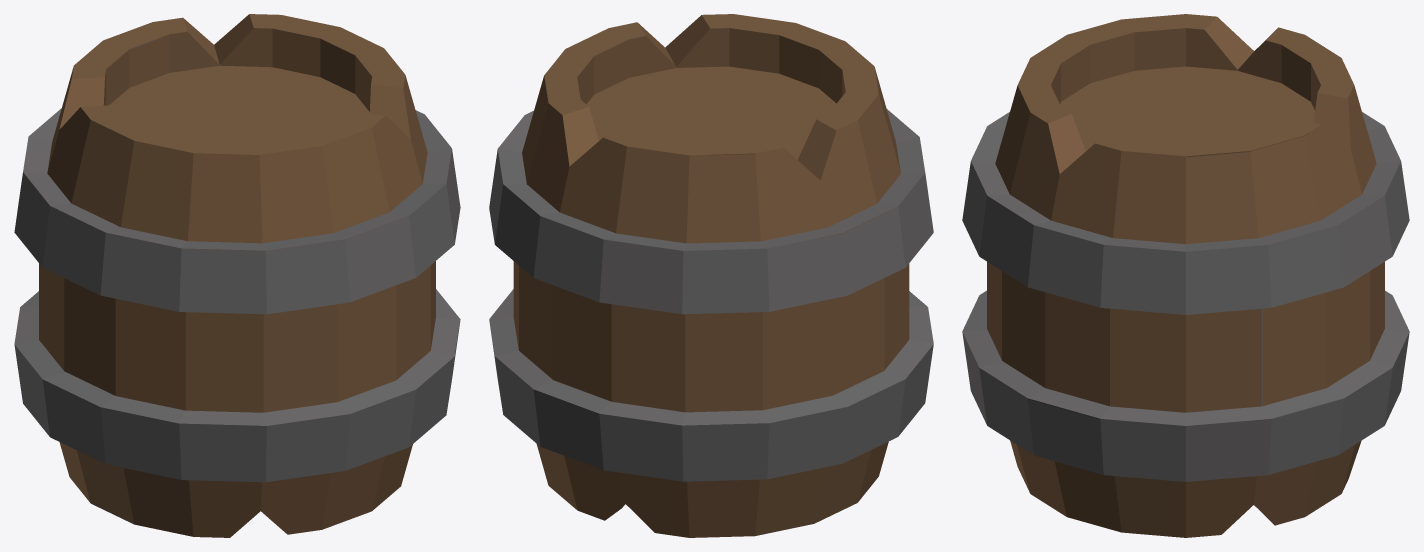
The model's file is Barrel_01.fbx.
The picture shows the model from 3 angles, left to right: view 1: azimuth 30°, elevation 25°; view 2: azimuth 150°, elevation 25°; view 3: azimuth 270°, elevation 25°; orthographic projection.
Visible parts, largest first — view 1: Cylinder.005; view 2: Cylinder.005; view 3: Cylinder.005.
Part boxes in pixels (x1,y1,x2,y2): Cylinder.005: (14, 14, 460, 537); Cylinder.005: (489, 14, 933, 537); Cylinder.005: (962, 14, 1409, 537).
Size of the model in its own units: 85.01 by 80 by 85.01.
